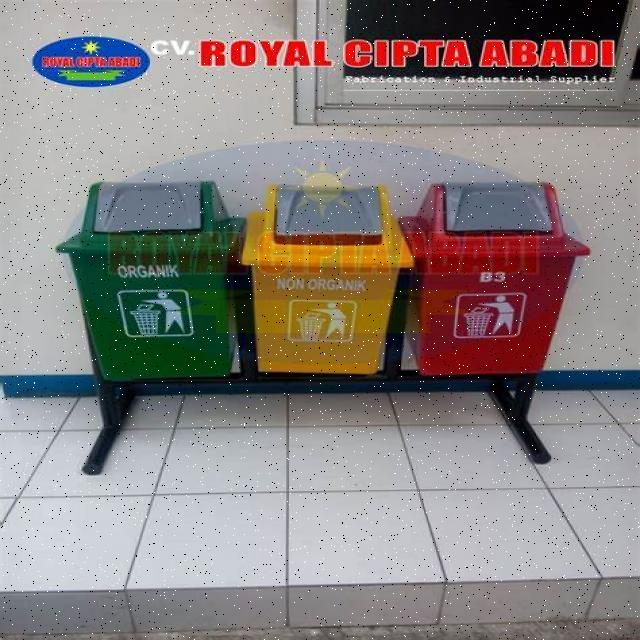garbage container: (36, 157, 254, 425), (414, 165, 589, 406), (247, 175, 413, 425)
